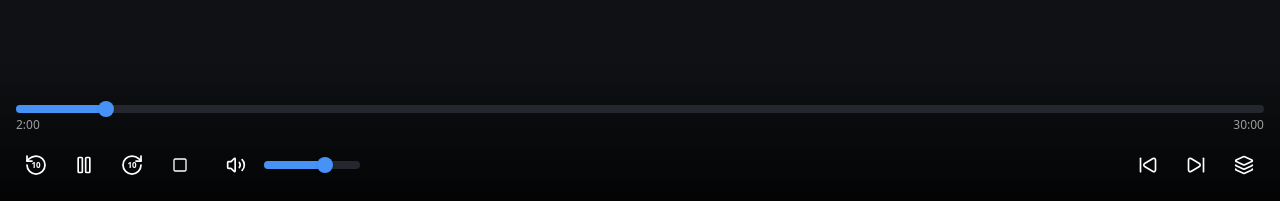
Test case: Controls source menu › switches to the chosen source and closes the menu
Click the button named "Source" at (1244, 165), box [1224,145,1264,185]
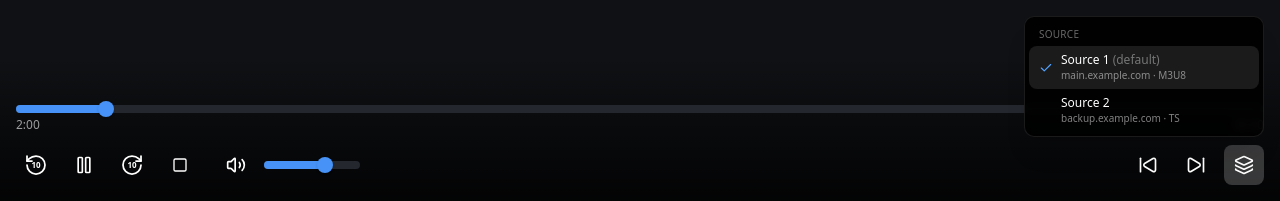
Click the menu item "Source 2 backup.example.com · TS" at (1144, 110), box [1029,89,1259,132]
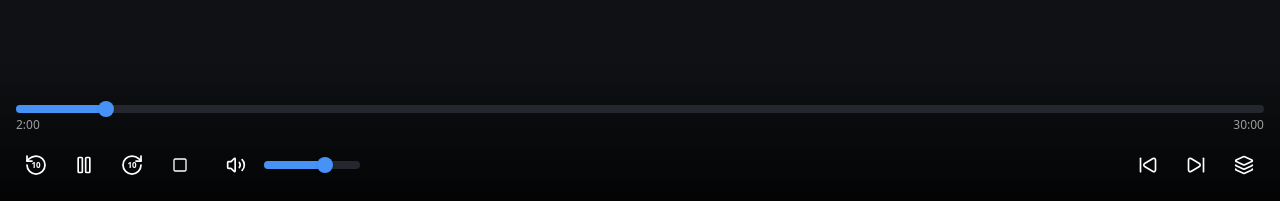
Expected: the menu is gone
Expected: the button named "Source" is collapsed, [1224,145,1264,185]
